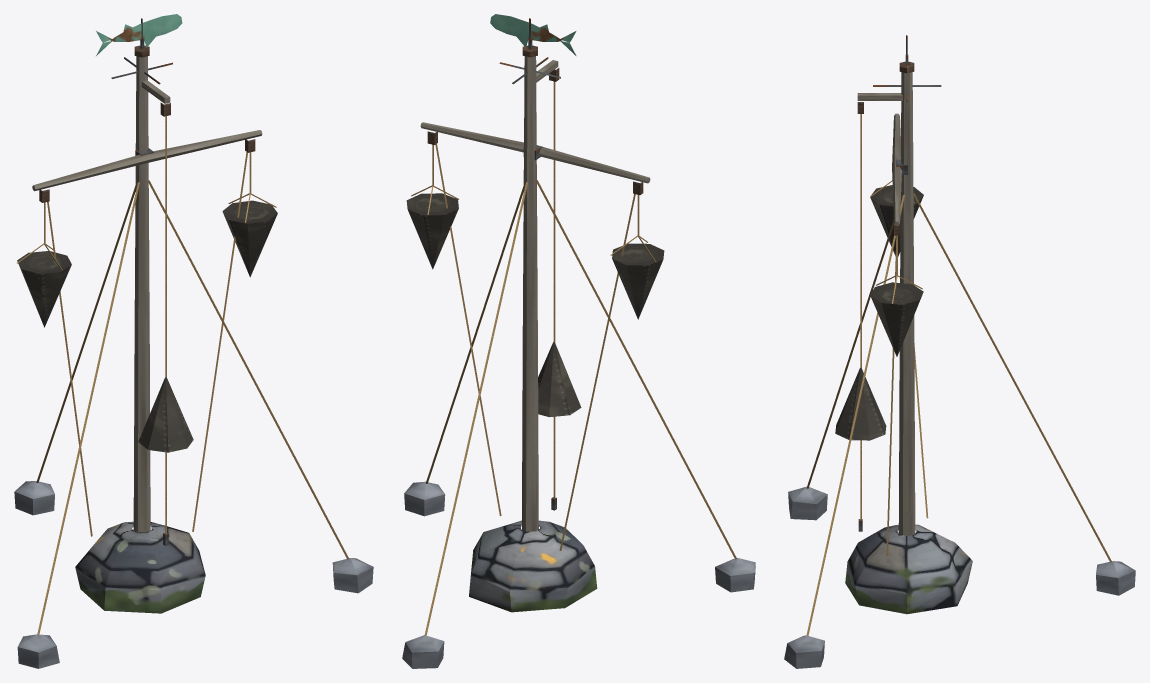
The model's file is storm-mast.glb.
The picture shows the model from 3 angles, left to right: view 1: azimuth 30°, elevation 25°; view 2: azimuth 150°, elevation 25°; view 3: azimuth 270°, elevation 25°; orthographic projection. The views are drawn at different scales.
Visible parts, largest first — view 1: storm-mast, Cone, Vane; view 2: storm-mast, Cone, Vane; view 3: storm-mast, Cone.
Part boxes in pixels (x1=…): storm-mast: x1=14, y1=18, x2=373, y2=668; Cone: x1=138, y1=377, x2=193, y2=452; Vane: x1=96, y1=14, x2=182, y2=55; storm-mast: x1=402, y1=18, x2=755, y2=668; Cone: x1=538, y1=342, x2=581, y2=417; Vane: x1=490, y1=14, x2=576, y2=55; storm-mast: x1=784, y1=35, x2=1135, y2=668; Cone: x1=835, y1=368, x2=886, y2=440.
Bounding box in the file's own units: 3.9 × 6.08 × 3.5.
Materials: 1 (1 with a texture image).
